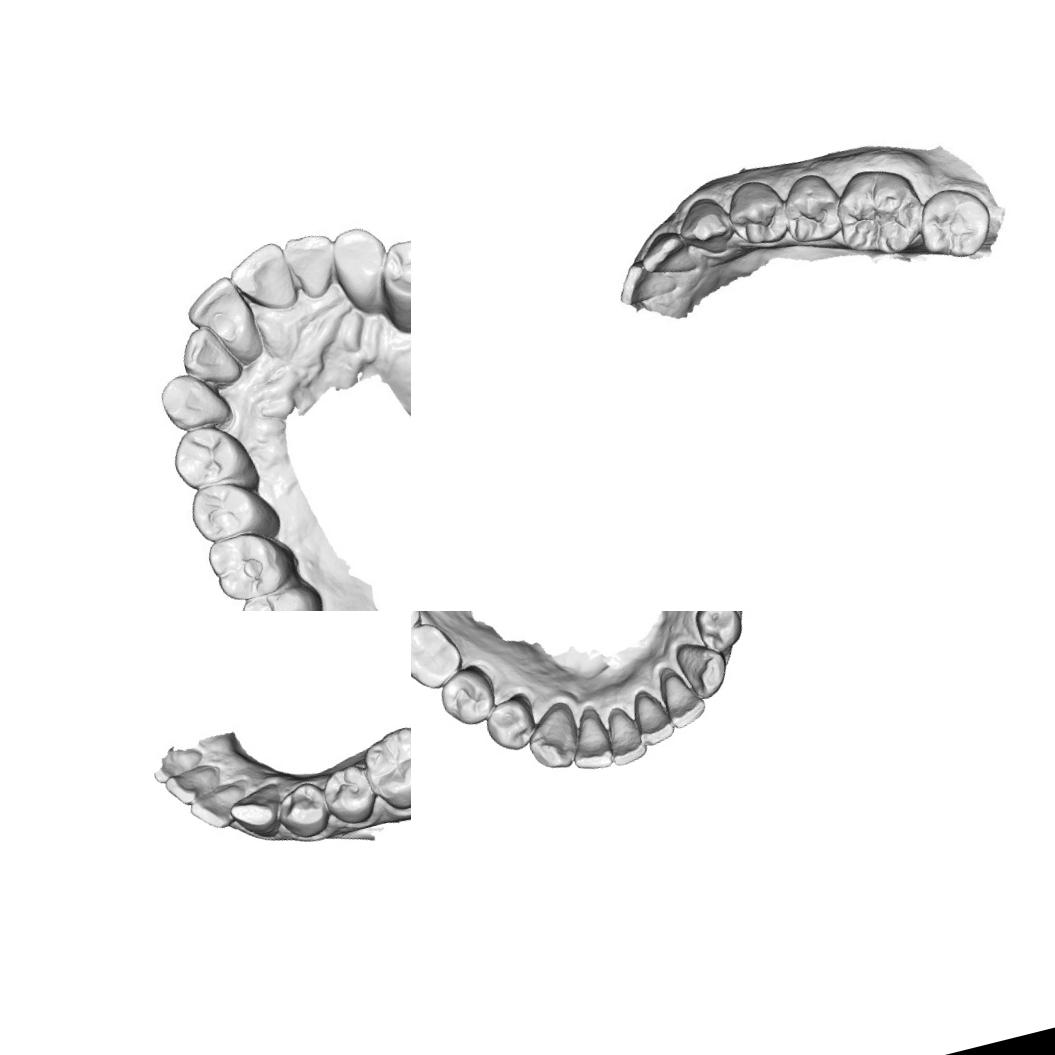canine: (324, 219, 395, 310), (153, 362, 234, 438), (518, 700, 586, 776), (671, 632, 735, 705), (676, 191, 739, 260), (224, 780, 288, 844)
incisor: (178, 270, 260, 352), (221, 236, 300, 318), (172, 318, 246, 395), (279, 227, 344, 302), (610, 251, 681, 308), (634, 224, 700, 283), (185, 781, 253, 835), (562, 709, 616, 775), (656, 667, 710, 732), (599, 705, 651, 768), (160, 760, 226, 809), (628, 686, 678, 748), (147, 742, 207, 785)
molar: (824, 161, 930, 266), (908, 178, 999, 267), (200, 521, 294, 607), (356, 718, 411, 816), (411, 614, 470, 697), (235, 577, 324, 611)
premolar: (164, 415, 259, 500), (180, 470, 272, 550), (776, 168, 846, 249), (724, 176, 792, 256), (431, 660, 502, 732), (317, 760, 379, 830), (271, 777, 334, 844), (478, 692, 541, 757), (367, 231, 411, 324), (689, 611, 750, 656)
